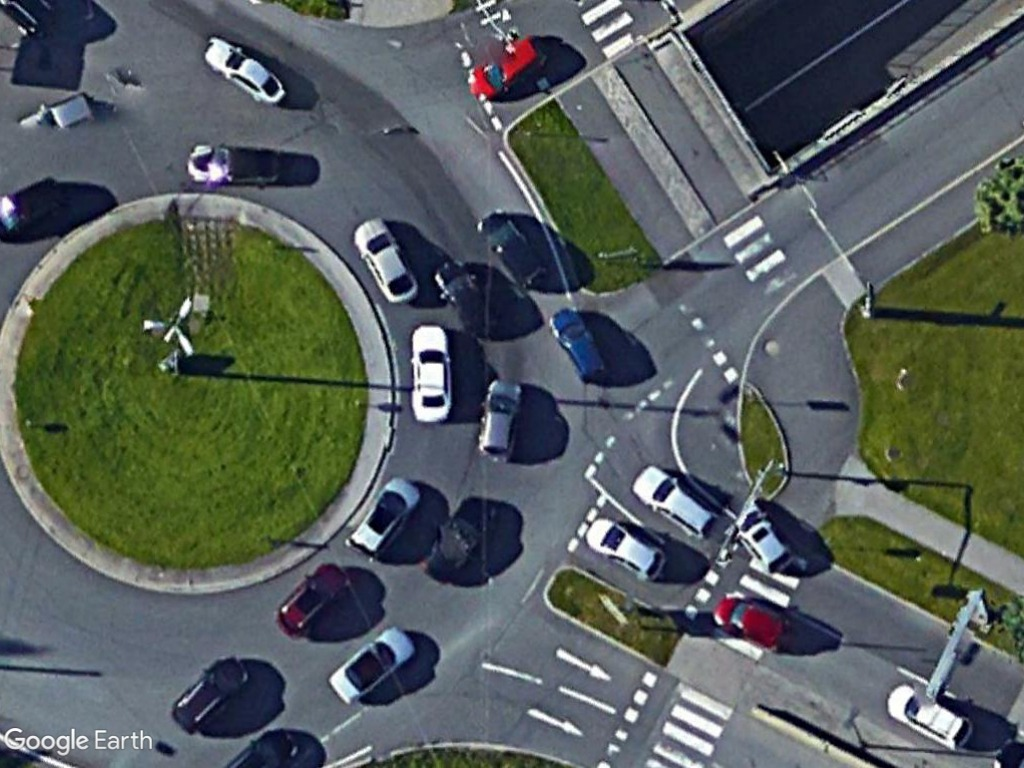car: (328, 620, 416, 713), (628, 459, 723, 544), (344, 204, 423, 305), (872, 680, 979, 754), (169, 648, 251, 737), (344, 470, 422, 563), (192, 37, 289, 110), (273, 553, 354, 639), (575, 515, 670, 586), (464, 29, 552, 105), (541, 303, 616, 388), (708, 591, 800, 655), (403, 318, 452, 429), (473, 370, 525, 468)
